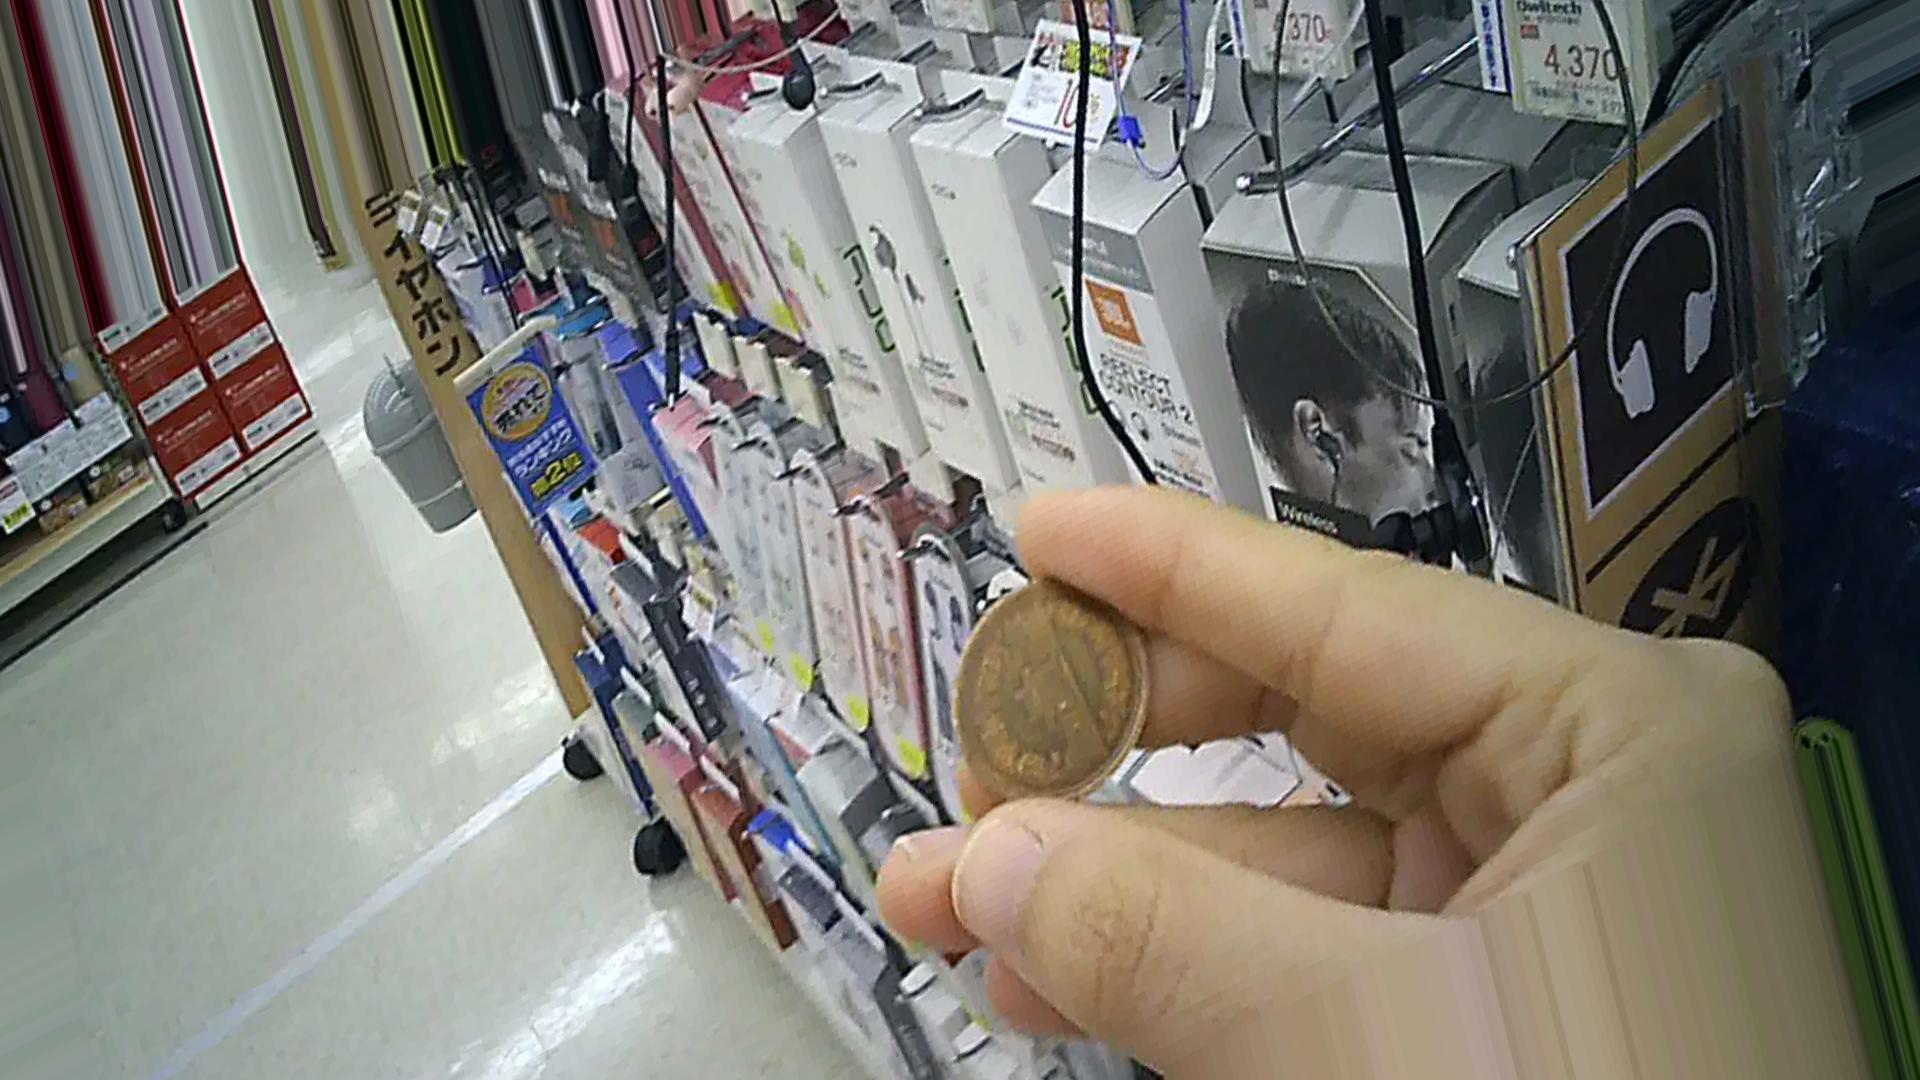10 Yen: (947, 579, 1147, 794)
